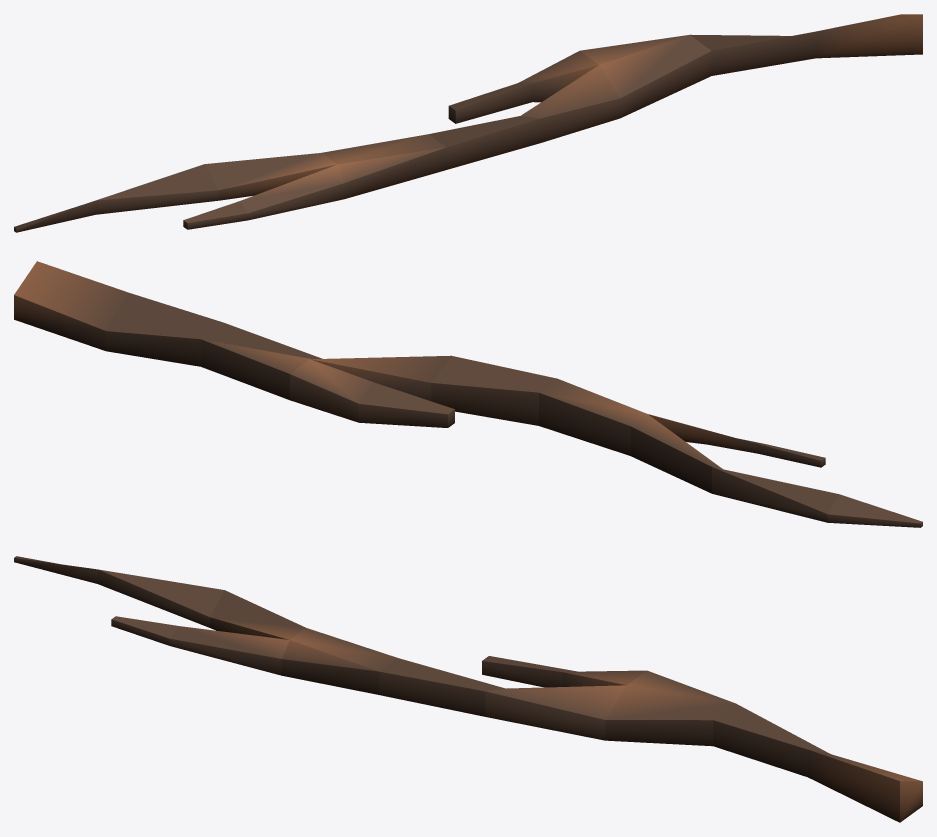
File: Twig_v1_2.fbx
The picture shows the model from 3 angles, top to bottom: view 1: azimuth 30°, elevation 25°; view 2: azimuth 150°, elevation 25°; view 3: azimuth 330°, elevation 25°; orthographic projection. The views are drawn at different scales.
Parts seen in each view (by area): view 1: Twig; view 2: Twig; view 3: Twig.
Part boxes in pixels (left/top/right/bottom): Twig: left=14, top=14, right=922, bottom=232; Twig: left=14, top=261, right=922, bottom=527; Twig: left=14, top=556, right=922, bottom=822.
Size of the model in its own units: 127 by 5.56 by 16.16.
